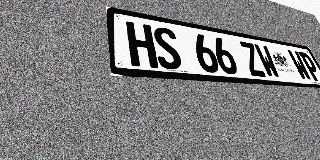6: (190, 32, 221, 73), (210, 36, 240, 75)
H: (126, 21, 159, 68)
P: (298, 51, 320, 82)
S: (151, 26, 184, 70)
W: (253, 44, 281, 78), (287, 49, 313, 81)
Z: (238, 41, 267, 77)
